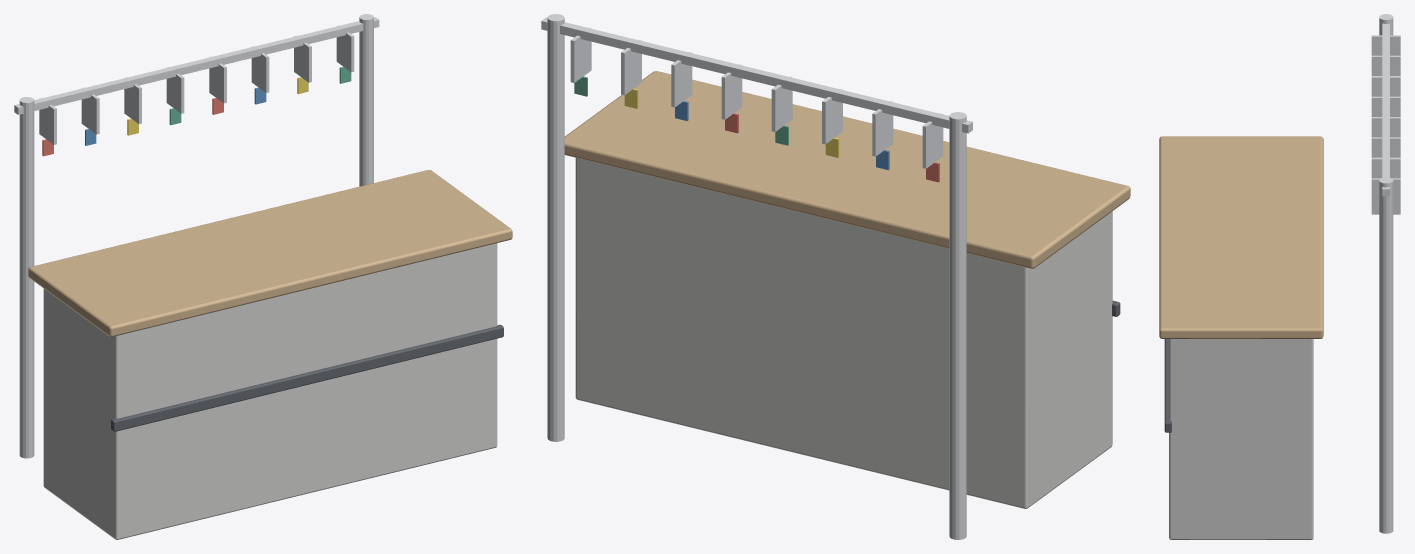
The picture shows the model from 3 angles, left to right: view 1: azimuth 30°, elevation 25°; view 2: azimuth 150°, elevation 25°; view 3: azimuth 270°, elevation 25°; orthographic projection. The views are drawn at different scales.
Visible parts, largest first — view 1: cloakroom-counter; view 2: cloakroom-counter; view 3: cloakroom-counter.
Part boxes in pixels (x1,y1,x2,y2): cloakroom-counter: (14, 14, 512, 539); cloakroom-counter: (541, 14, 1130, 539); cloakroom-counter: (1159, 14, 1400, 539).
Size of the model in its own units: 1.9 by 1.6 by 1.
